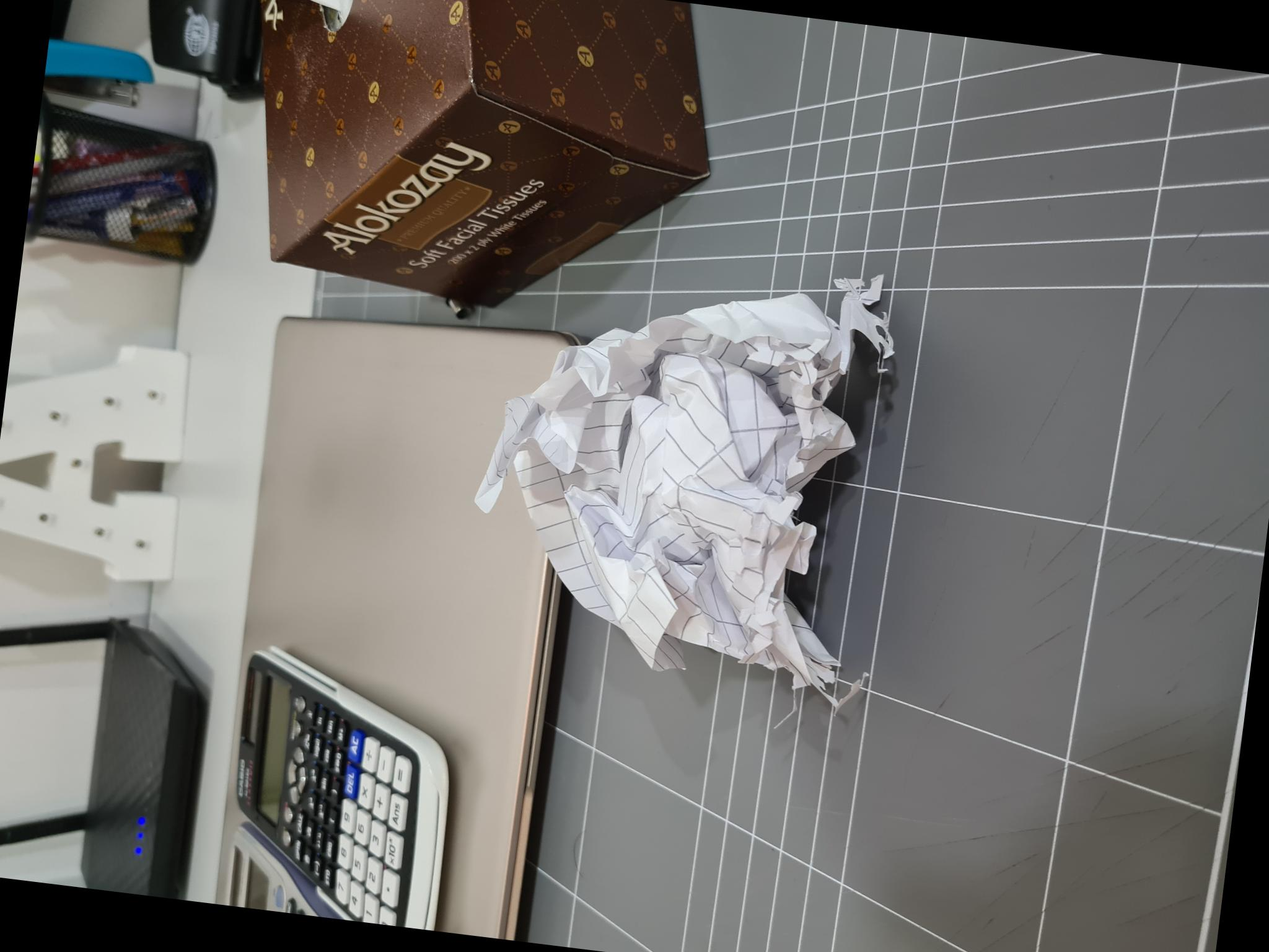Kertas: (240, 489, 699, 858)
